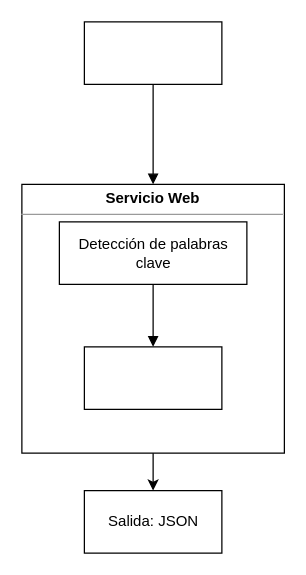
This 306x575 diagram has some shape labels left out. Here are the shapes that lost their labels. From the top down, the centre of each, then its label:
(x=152, y=52): Entrada: array de palabras
(x=152, y=377): Selección del tiempo verbal
